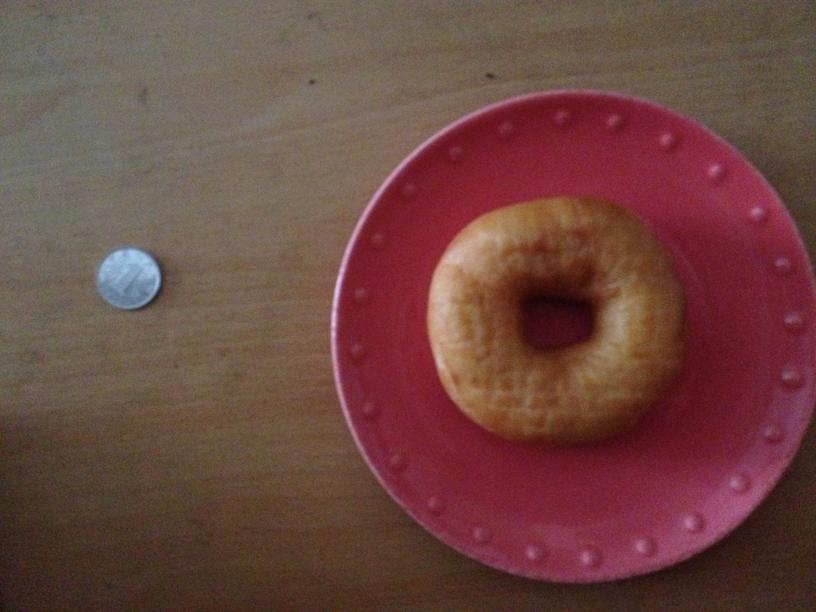coin: (96, 249, 161, 311)
doughnut: (428, 197, 683, 442)
